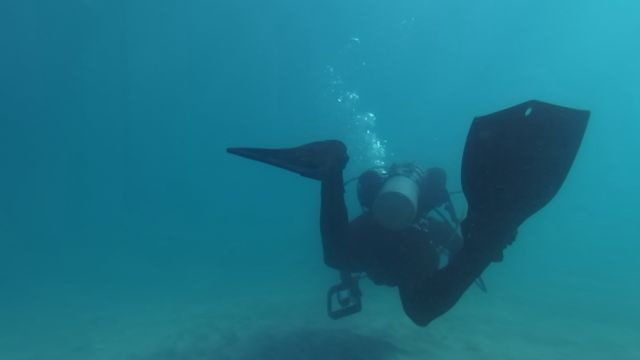Diver: (218, 95, 600, 334)
